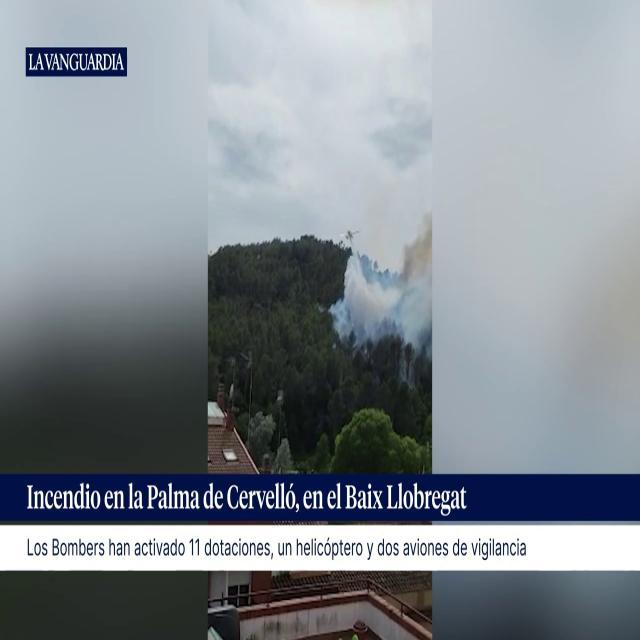Smoke: (332, 198, 432, 356)
